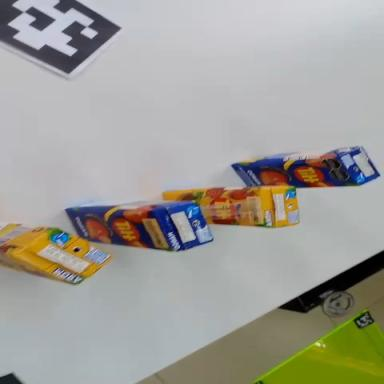HIT-MANGO: (66, 199, 213, 252), (231, 145, 380, 191)
HIT-MORA: (0, 214, 116, 294), (163, 184, 299, 234)
cara_F: (63, 210, 174, 251), (231, 156, 358, 191), (162, 187, 266, 226), (0, 251, 76, 286)
